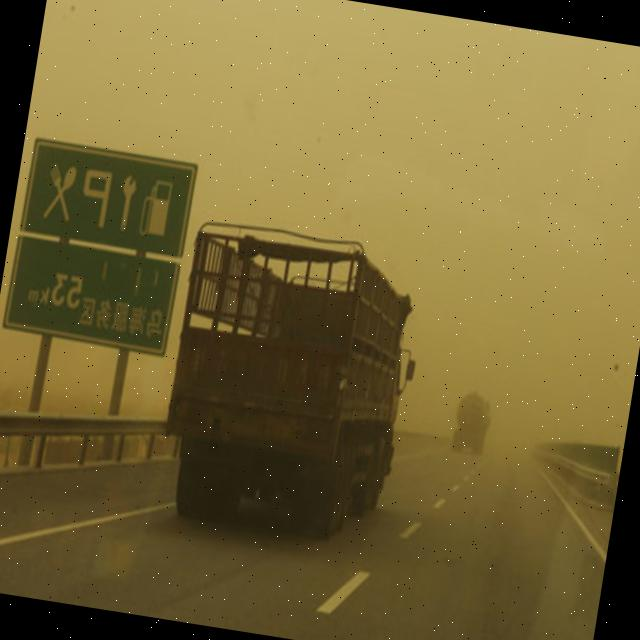bus: (154, 213, 427, 552), (448, 392, 496, 454)
